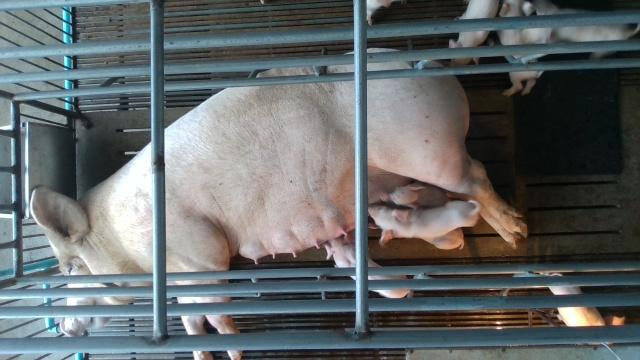piglet: (536, 1, 640, 59), (368, 200, 481, 247), (324, 237, 410, 298), (497, 0, 544, 96), (544, 273, 625, 326), (449, 0, 499, 67), (382, 181, 450, 207)
sow-sleep-lactate: (33, 48, 528, 360)
